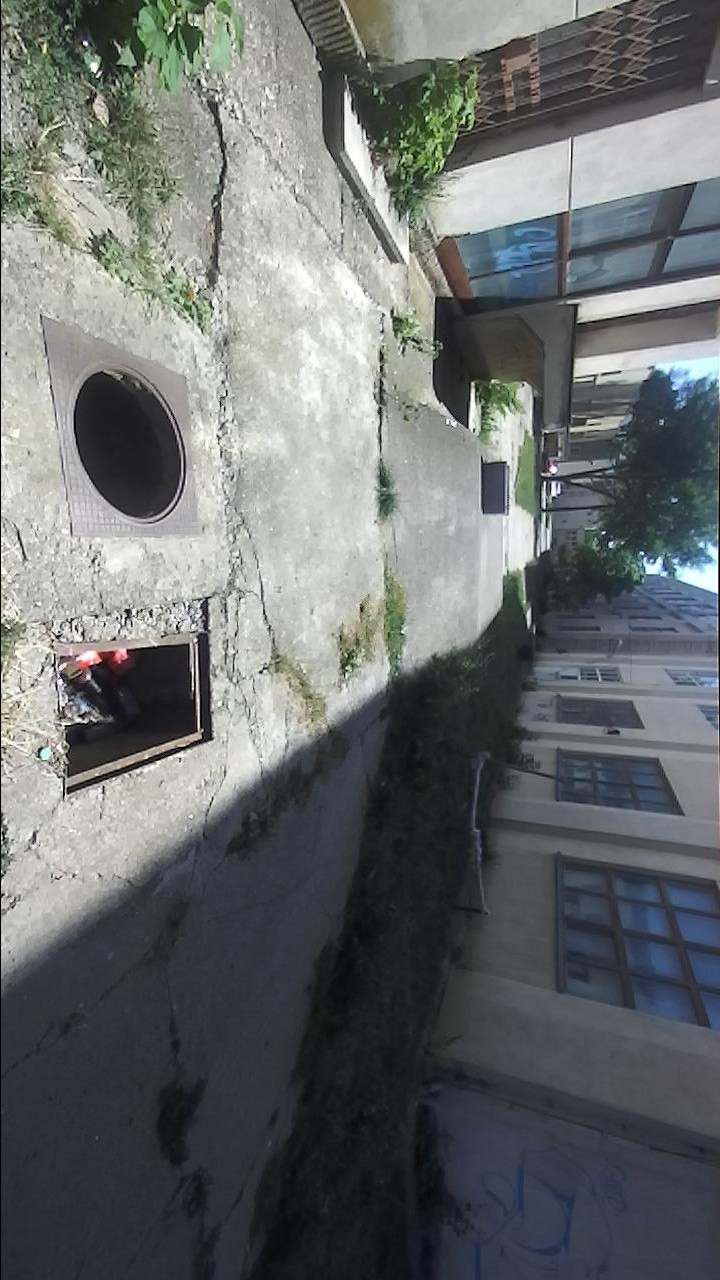drain: (52, 623, 218, 808), (63, 356, 191, 528)
